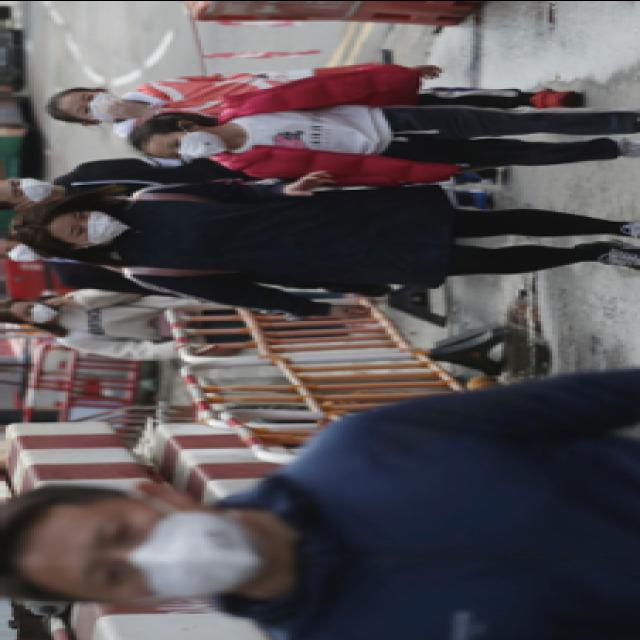mask: (71, 499, 269, 598), (59, 208, 128, 243), (158, 128, 224, 158), (68, 90, 122, 120), (3, 174, 54, 202), (14, 300, 56, 322), (0, 240, 37, 261)
